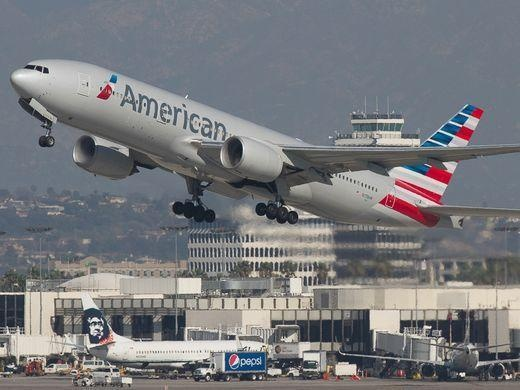airplane: (8, 49, 520, 232)
